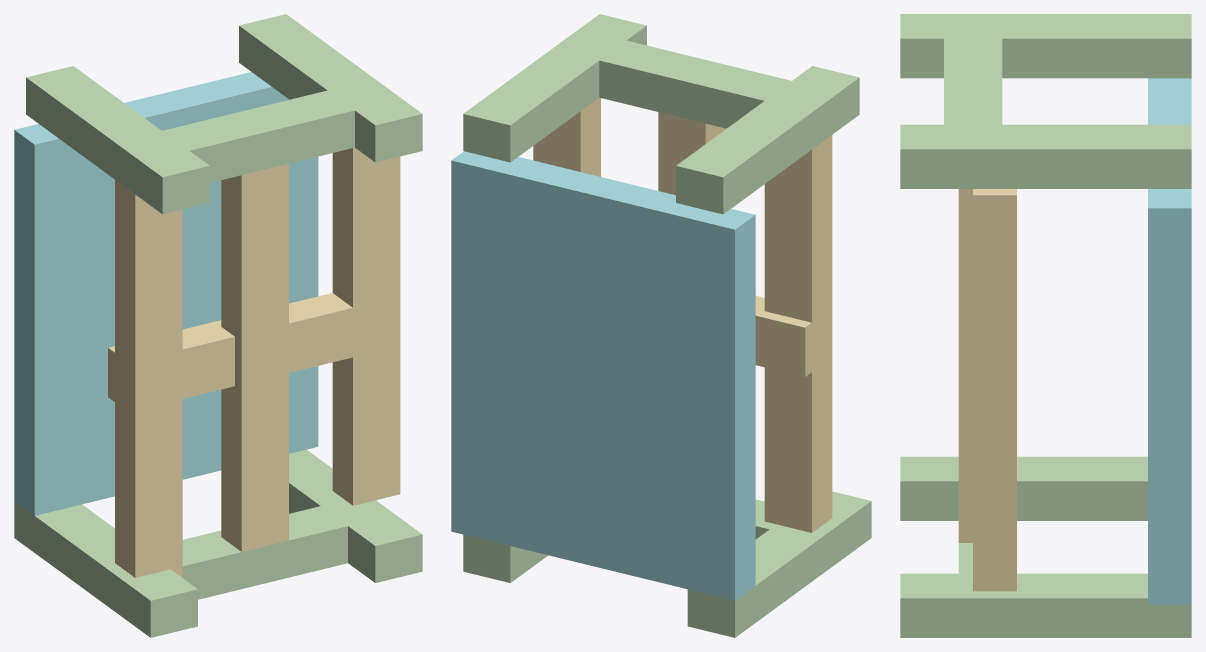
File: tinker.obj
3 views of the same model, side by side, from view 1: azimuth 30°, elevation 25°; view 2: azimuth 150°, elevation 25°; view 3: azimuth 270°, elevation 25° (orthographic). The views are drawn at different scales.
Visible parts, largest first — view 1: group_0_16311991, group_0_13165757, group_0_11593967; view 2: group_0_11593967, group_0_13165757, group_0_16311991; view 3: group_0_13165757, group_0_16311991, group_0_11593967.
Boxes of the visible parts, x1,y1,x2,y2 form: group_0_16311991: (108, 147, 400, 577); group_0_13165757: (14, 14, 422, 637); group_0_11593967: (14, 72, 318, 515); group_0_11593967: (451, 151, 755, 600); group_0_13165757: (463, 14, 871, 637); group_0_16311991: (533, 97, 832, 532); group_0_13165757: (900, 14, 1191, 637); group_0_16311991: (958, 189, 1016, 591); group_0_11593967: (1148, 78, 1191, 604).
Size of the model in its own units: 24 by 37 by 20.
